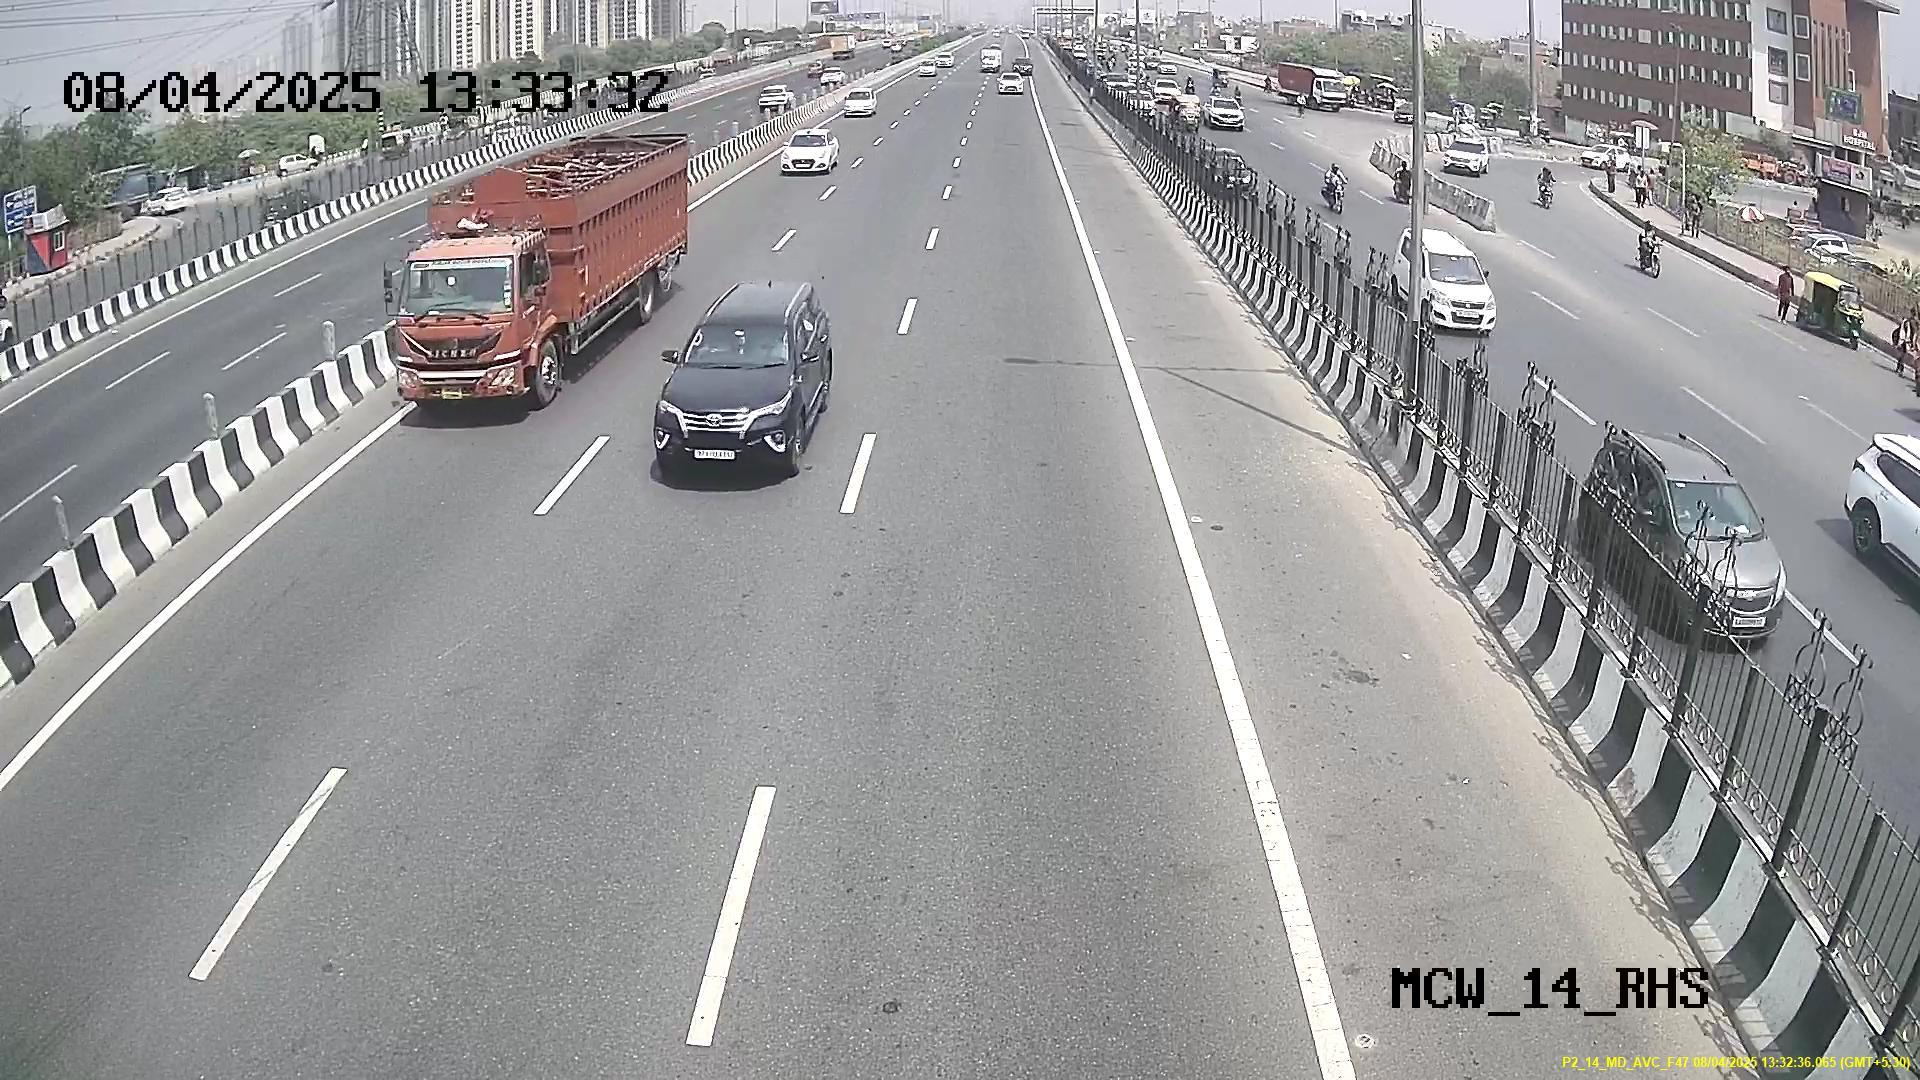car: (654, 298, 822, 480)
lcv: (389, 239, 545, 409)
